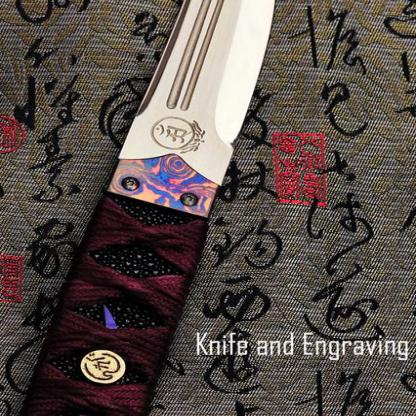knife: (0, 0, 285, 415)
